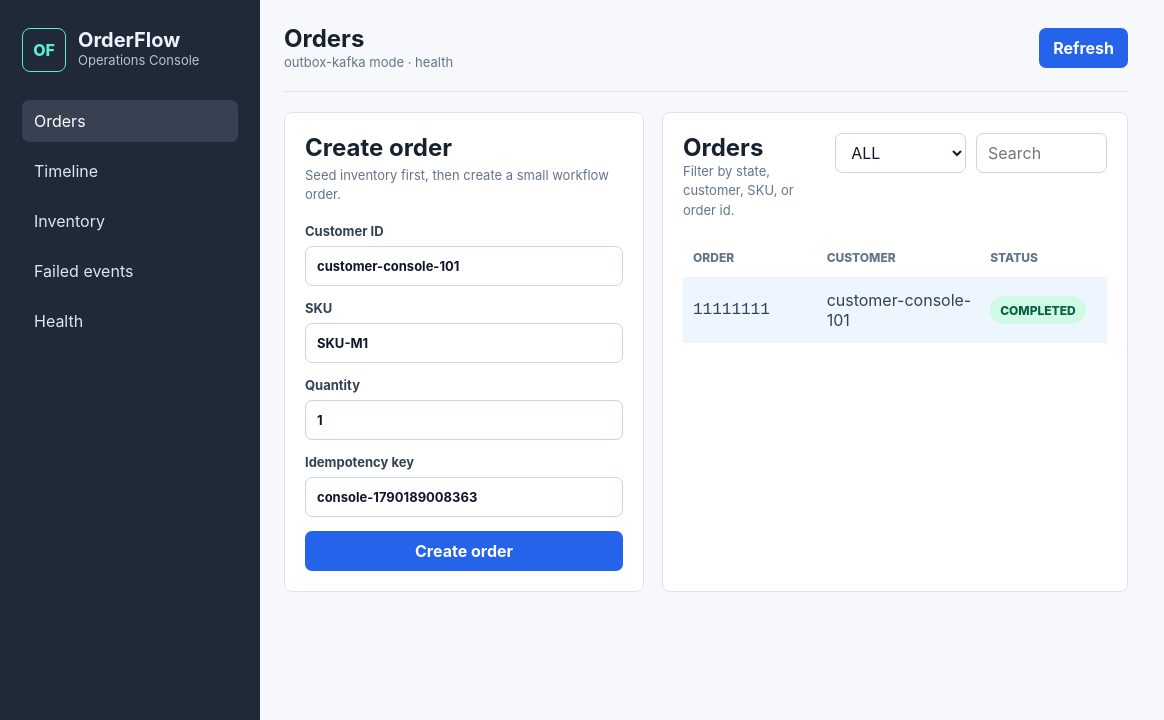
Test case: App › loads orders and opens the selected timeline
Check: the text "customer-console-101" is shown, box [827,290,976,330]
Click the text "11111111" at coordinates (731, 310), box [693,301,770,319]
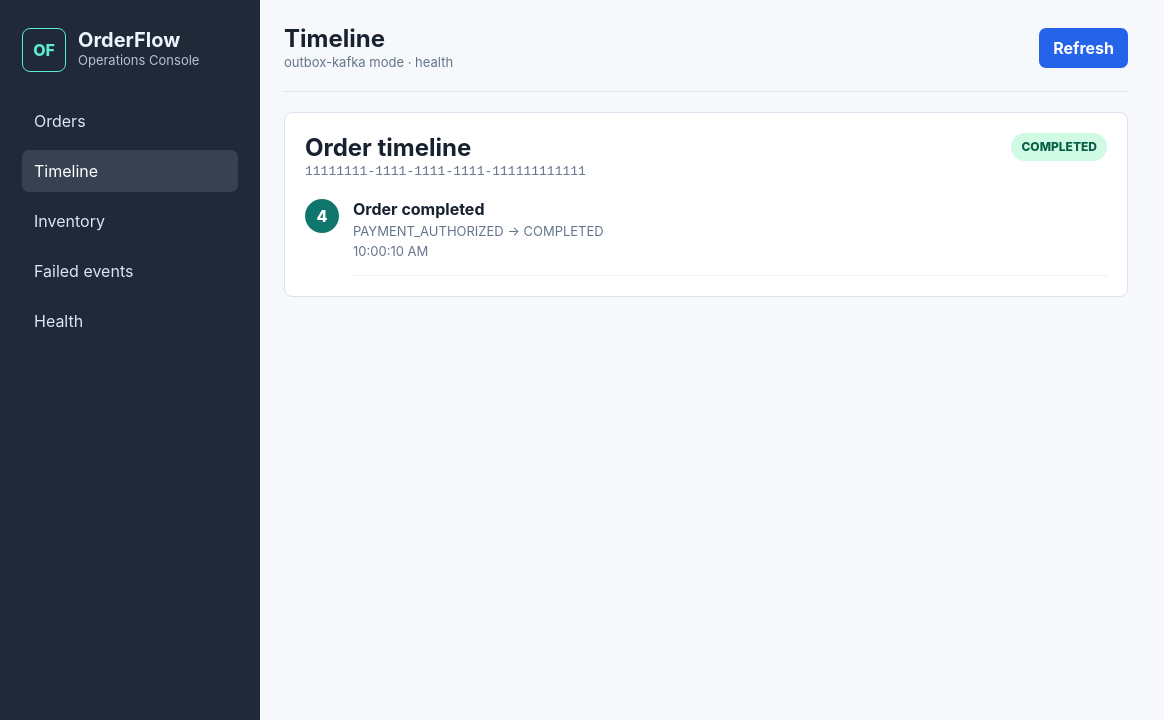
Check: the heading "Order timeline" is shown, box [305,132,471,162]
Check: the text "Order completed" is shown, box [353,199,484,219]
